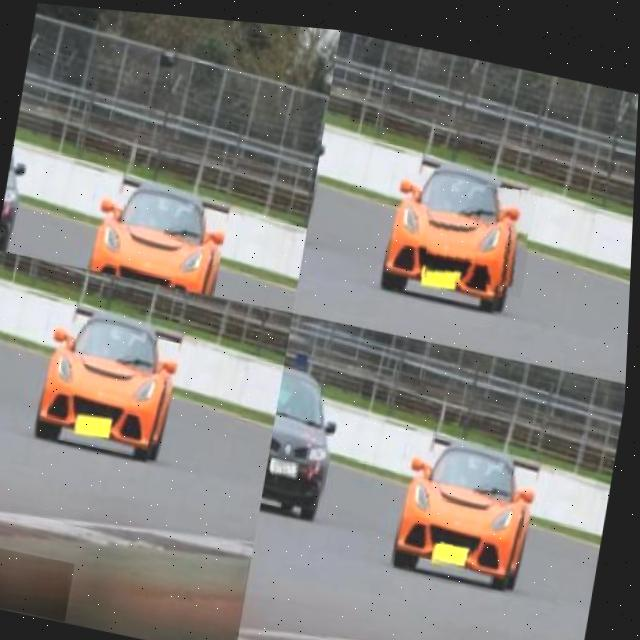LicensePlate: (427, 174, 532, 276), (0, 554, 74, 614), (439, 535, 477, 562), (274, 457, 302, 470)
